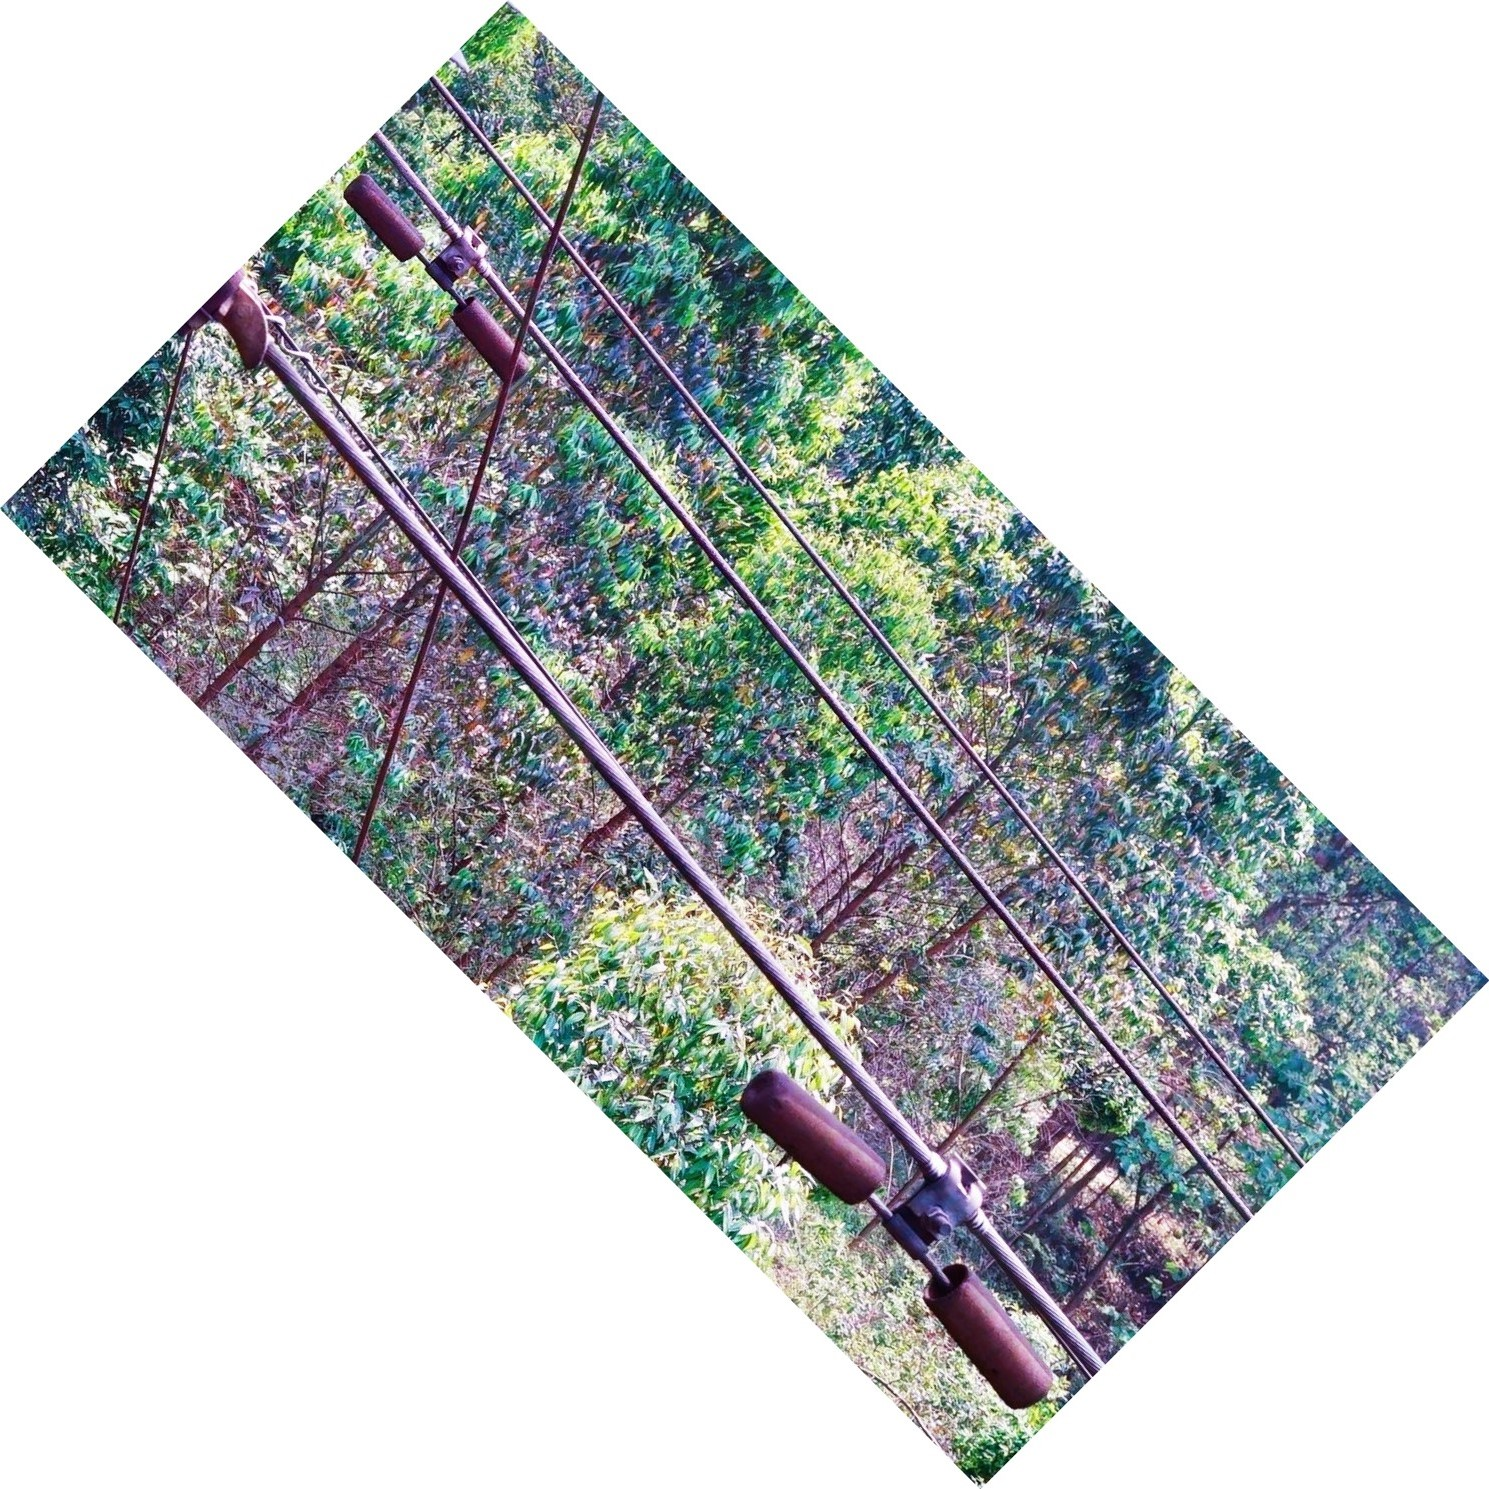Shockproof hammer: (739, 1023, 1070, 1419), (337, 153, 556, 398)
